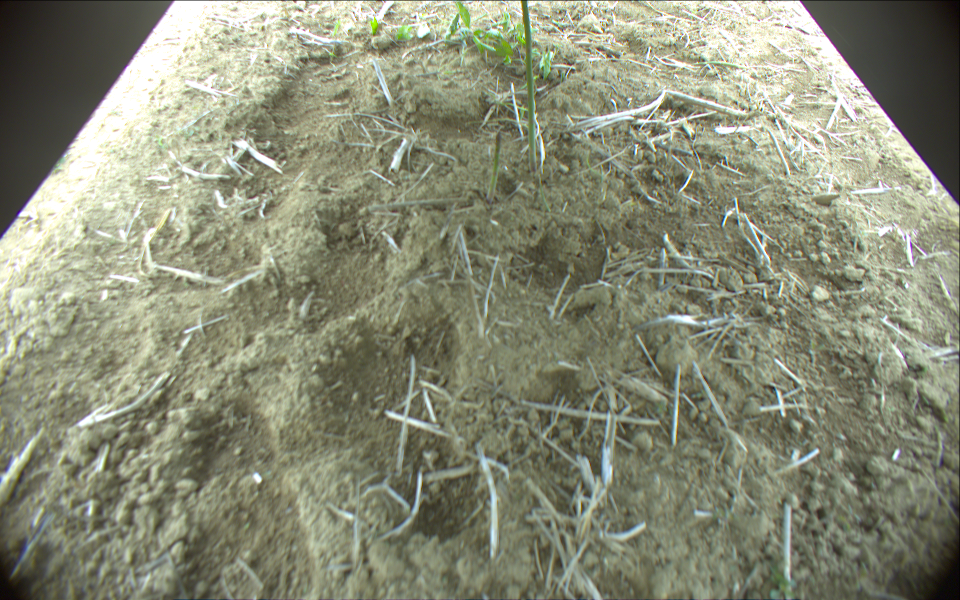aspa: (519, 1, 538, 169), (488, 132, 503, 205)
